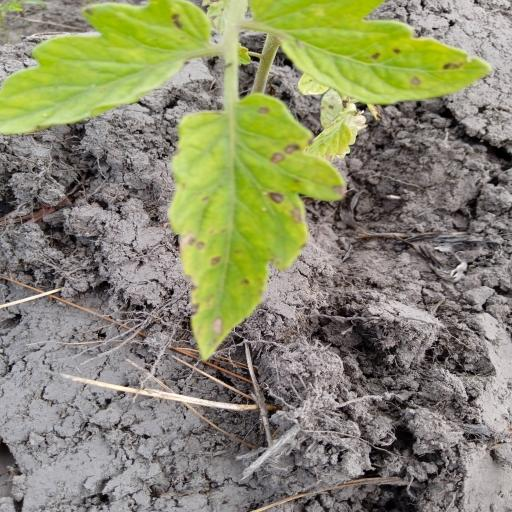Tomato_Brown_Spots: (166, 89, 348, 364), (0, 0, 223, 138), (238, 0, 498, 105)
